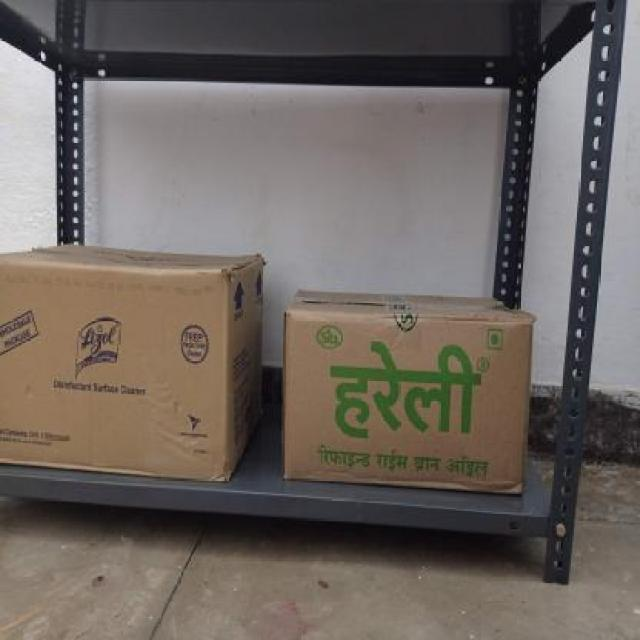box: (281, 311, 527, 497), (0, 271, 229, 464)
